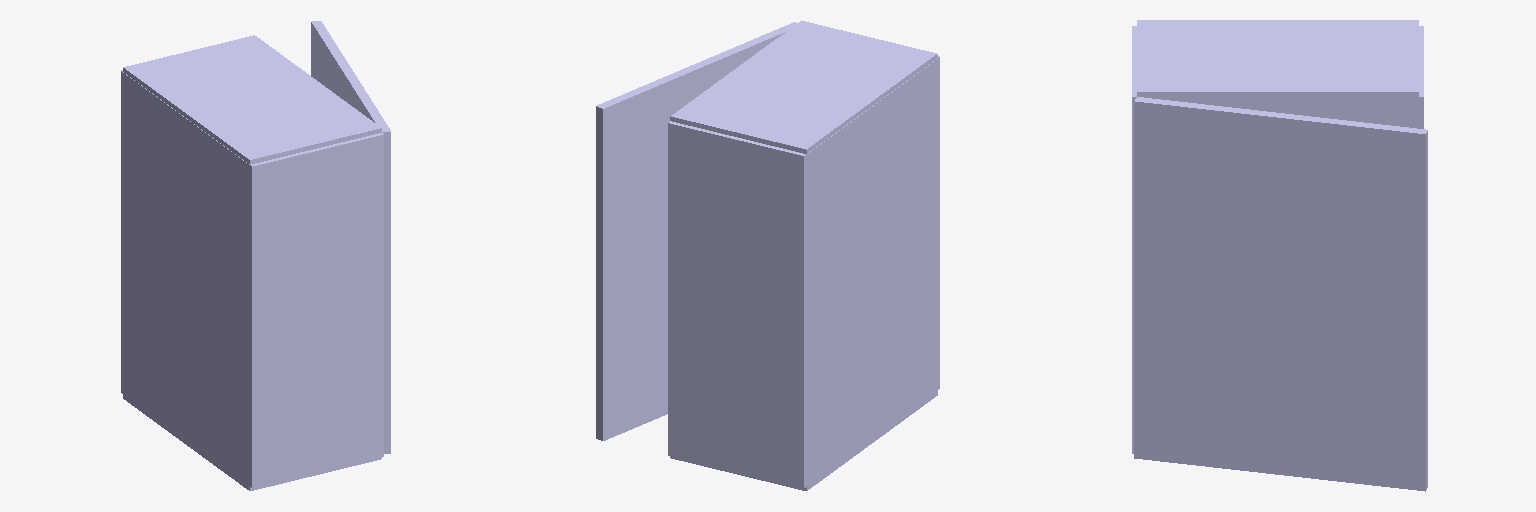
robot.urdf — box_base:
<?xml version="1.0"?>
<robot name="box_base">
    <link name="robot_base">
        <visual name="box_base5">
            <origin xyz="0.000235 -0.000001 -0.175002" rpy="0.000024 3.141593 -1.570796" />
            <geometry>
                <box size="0.250000 0.150000 0.010000" />
            </geometry>
            <material name="robot_base_material">
                <color rgba="0.850000 0.850000 1.000000 1.0" />
            </material>
        </visual>
        <visual name="box_base4">
            <origin xyz="-0.074754 0.000001 0.000002" rpy="-1.570804 3.141593 -1.570796" />
            <geometry>
                <box size="0.250000 0.350000 0.001000" />
            </geometry>
            <material name="robot_base_material">
                <color rgba="0.850000 0.850000 1.000000 1.0" />
            </material>
        </visual>
        <visual name="box_base3">
            <origin xyz="0.000254 0.124999 0.000005" rpy="-1.570796 3.141585 0.000017" />
            <geometry>
                <box size="0.150000 0.350000 0.010000" />
            </geometry>
            <material name="robot_base_material">
                <color rgba="0.850000 0.850000 1.000000 1.0" />
            </material>
        </visual>
        <visual name="box_base2">
            <origin xyz="0.000246 -0.124999 0.000002" rpy="-1.570796 3.141585 0.000026" />
            <geometry>
                <box size="0.150000 0.350000 0.010000" />
            </geometry>
            <material name="robot_base_material">
                <color rgba="0.850000 0.850000 1.000000 1.0" />
            </material>
        </visual>
        <visual name="box_base">
            <origin xyz="0.000245 0.000001 0.175002" rpy="0.000018 3.141593 -1.570796" />
            <geometry>
                <box size="0.250000 0.150000 0.010000" />
            </geometry>
            <material name="robot_base_material">
                <color rgba="0.850000 0.850000 1.000000 1.0" />
            </material>
        </visual>
    </link>
    <joint name="box_joint" type="revolute">
        <axis xyz="0 0 1" />
        <limit lower="-0.25307273864746" upper="2.3649210929871" velocity="6.2831854820251" effort="10.0" />
        <parent link="robot_base" />
        <child link="box_lid" />
        <origin xyz="0.076229 -0.123002 0.000020" rpy="0.000031 3.141592 -1.570803" />
    </joint>
    <link name="box_lid">
        <inertial>
            <origin rpy="1.570772 3.141586 -2.879811" xyz="0.126009 0.038258 -0.000070" />
            <inertia ixx="0.0095832388144441" iyz="-1.4173272439678e-10" izz="0.015189634999142" iyy="0.0056220551158996" ixz="4.1934084209953e-11" ixy="5.7642736313618e-13" />
            <mass value="0.93799996376038" />
        </inertial>
        <collision name="box_lid">
            <origin xyz="0.126009 0.038258 -0.000070" rpy="1.570772 3.141586 -2.879811" />
            <geometry>
                <box size="0.268000 0.350000 0.010000" />
            </geometry>
        </collision>
        <visual name="box_lid">
            <origin xyz="0.126009 0.038258 -0.000070" rpy="1.570772 3.141586 -2.879811" />
            <geometry>
                <box size="0.268000 0.350000 0.010000" />
            </geometry>
            <material name="box_lid_material">
                <color rgba="0.850000 0.850000 1.000000 1.0" />
            </material>
        </visual>
    </link>
</robot>

--- Render facts (derived) ---
3 views of the same robot in one strip: view 1: azimuth 30°, elevation 25°; view 2: azimuth 150°, elevation 25°; view 3: azimuth 270°, elevation 25° (orthographic).
Robot: box_base — 2 links, 1 joints (1 revolute); root link robot_base; default pose: all joints at 0.
Links seen in each view (by area): view 1: robot_base, box_lid; view 2: robot_base, box_lid; view 3: box_lid, robot_base.
Boxes of the visible links, x1,y1,x2,y2 form: robot_base: [121, 35, 383, 490]; box_lid: [311, 21, 390, 453]; robot_base: [668, 20, 939, 490]; box_lid: [596, 22, 796, 440]; box_lid: [1134, 97, 1427, 491]; robot_base: [1132, 20, 1423, 453].
Bounding box of the posed robot: 0.2293 × 0.2637 × 0.36 m (x, y, z).
Geometry: primitives only (box / cylinder / sphere), no mesh files.